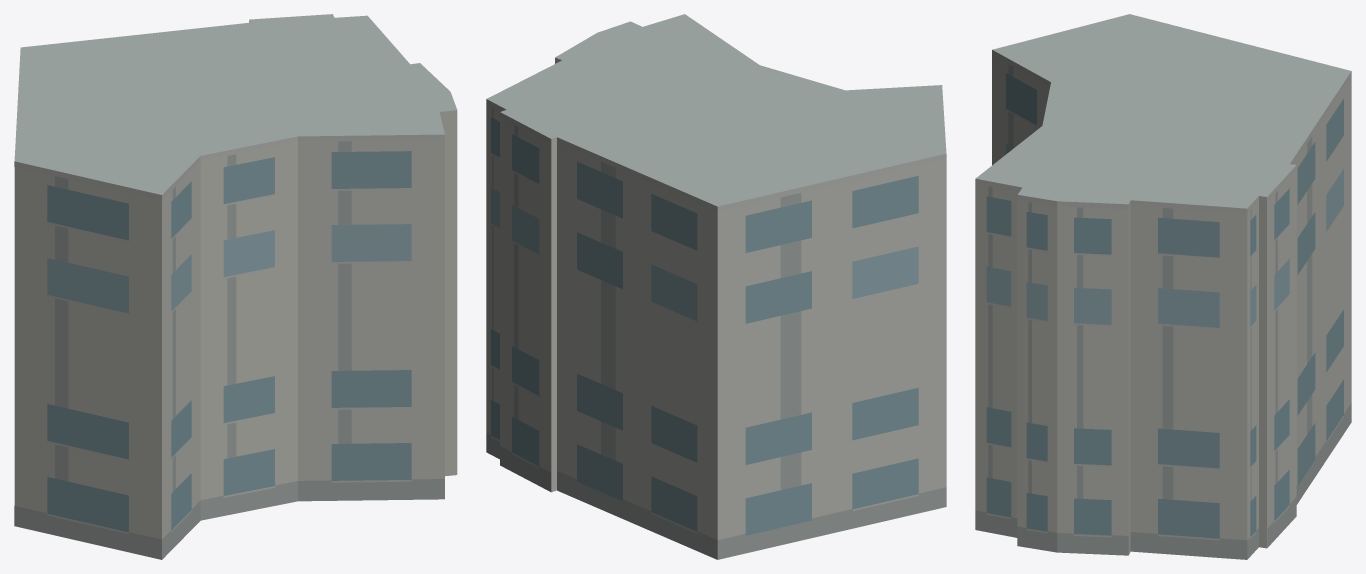
The model's file is survey-upis-33002039.glb.
3 renders of one model, left to right at view 1: azimuth 30°, elevation 25°; view 2: azimuth 150°, elevation 25°; view 3: azimuth 270°, elevation 25°, orthographic. The views are drawn at different scales.
Visible parts, largest first — view 1: survey-upis-33002039.tmp; view 2: survey-upis-33002039.tmp; view 3: survey-upis-33002039.tmp.
Boxes of the visible parts, x1,y1,x2,y2 form: survey-upis-33002039.tmp: (14, 14, 457, 559); survey-upis-33002039.tmp: (486, 14, 946, 559); survey-upis-33002039.tmp: (975, 14, 1351, 559).
Bounding box in the file's own units: 18.78 × 15.8 × 15.34.
